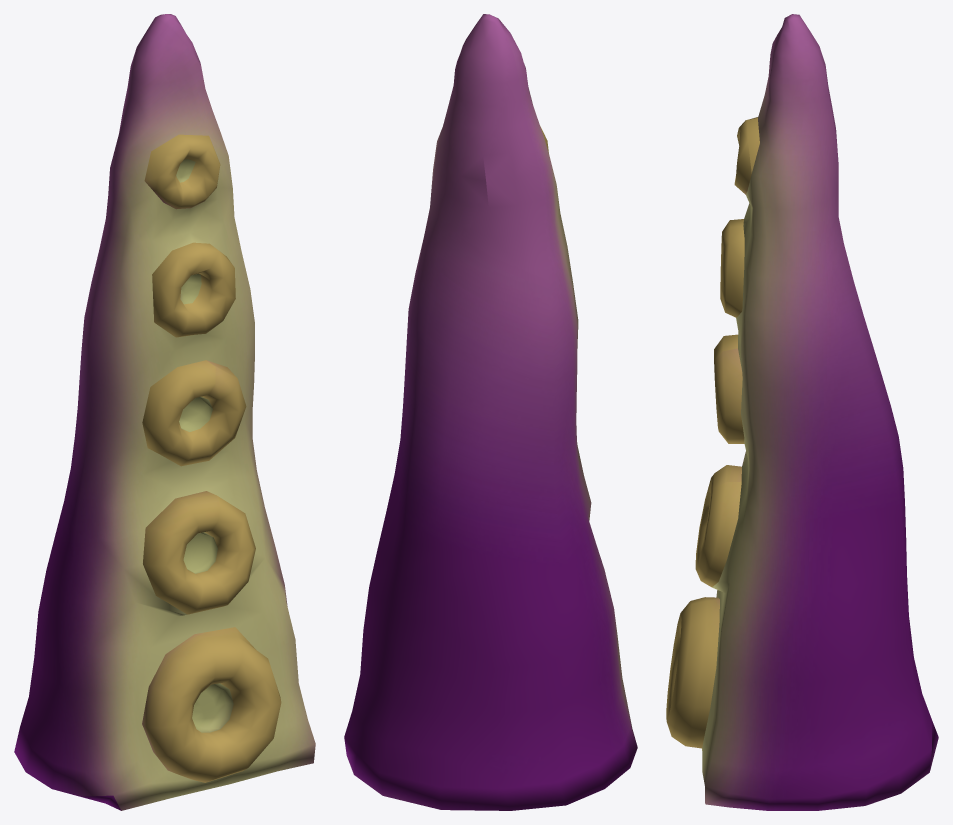
The model's file is PurpleTenacle.fbx.
The picture shows the model from 3 angles, left to right: view 1: azimuth 30°, elevation 25°; view 2: azimuth 150°, elevation 25°; view 3: azimuth 270°, elevation 25°; orthographic projection.
Parts seen in each view (by area): view 1: tentacles; view 2: tentacles; view 3: tentacles.
Boxes of the visible parts, x1,y1,x2,y2 form: tentacles: (14, 14, 315, 810); tentacles: (344, 14, 637, 810); tentacles: (666, 14, 938, 810).
Bounding box in the file's own units: 1.75 × 4.91 × 1.64.
Materials: 1 (1 with a texture image).
